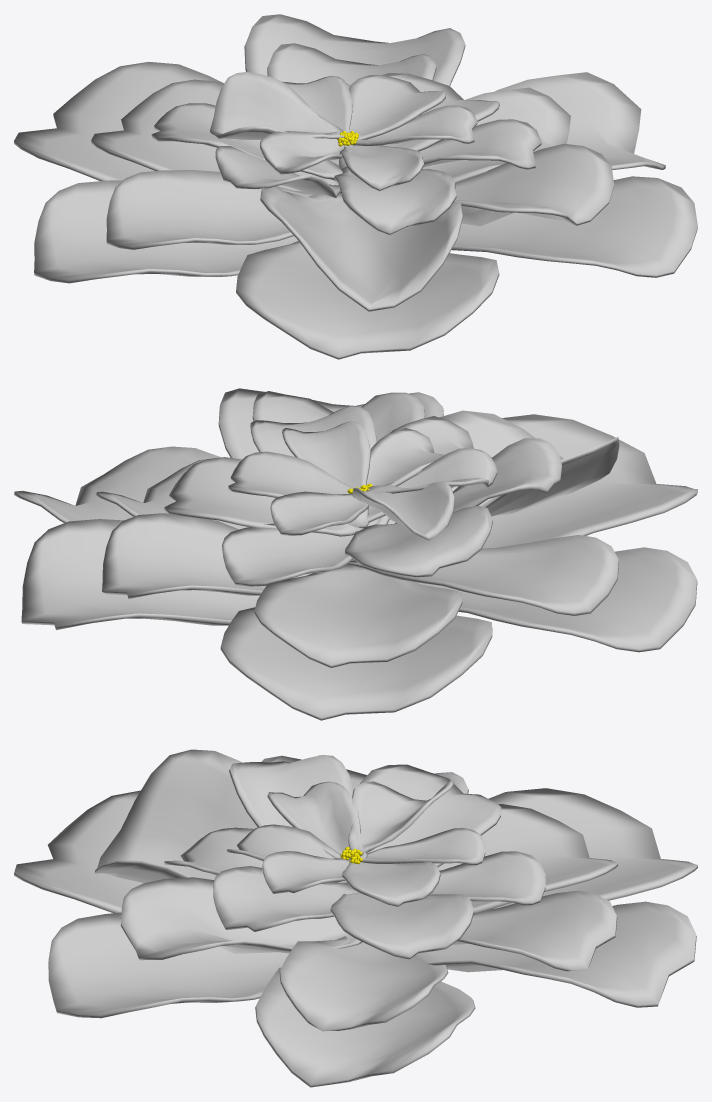
The model's file is Marigold joined.fbx.
The picture shows the model from 3 angles, top to bottom: view 1: azimuth 30°, elevation 25°; view 2: azimuth 150°, elevation 25°; view 3: azimuth 270°, elevation 25°; orthographic projection. The views are drawn at different scales.
Visible parts, largest first — view 1: Flower; view 2: Flower; view 3: Flower.
Part boxes in pixels (<box>): Flower: <box>14,14,697,359</box>; Flower: <box>14,388,697,720</box>; Flower: <box>14,749,697,1087</box>.
Size of the model in its own units: 419 by 96.53 by 402.
